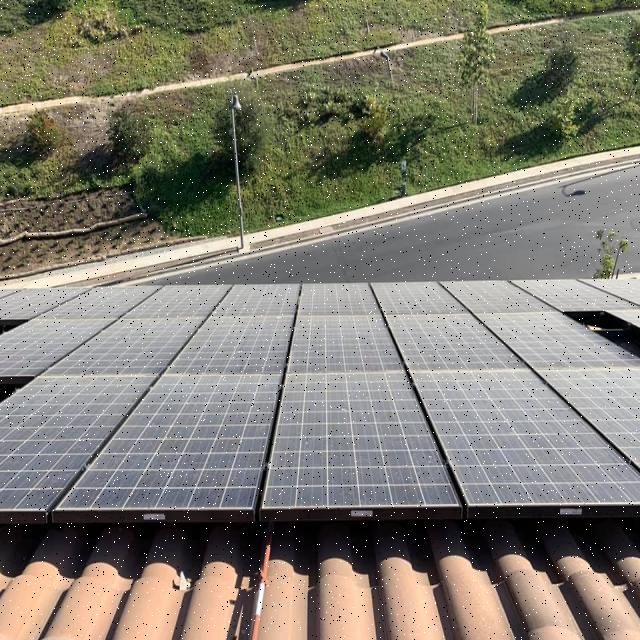dusty: (0, 277, 634, 514)
